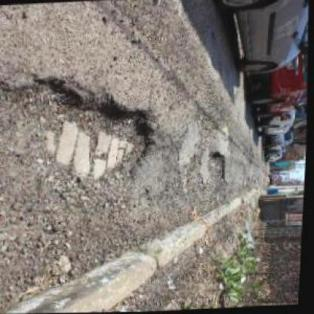Hueco: (0, 67, 160, 199), (208, 150, 232, 184)
